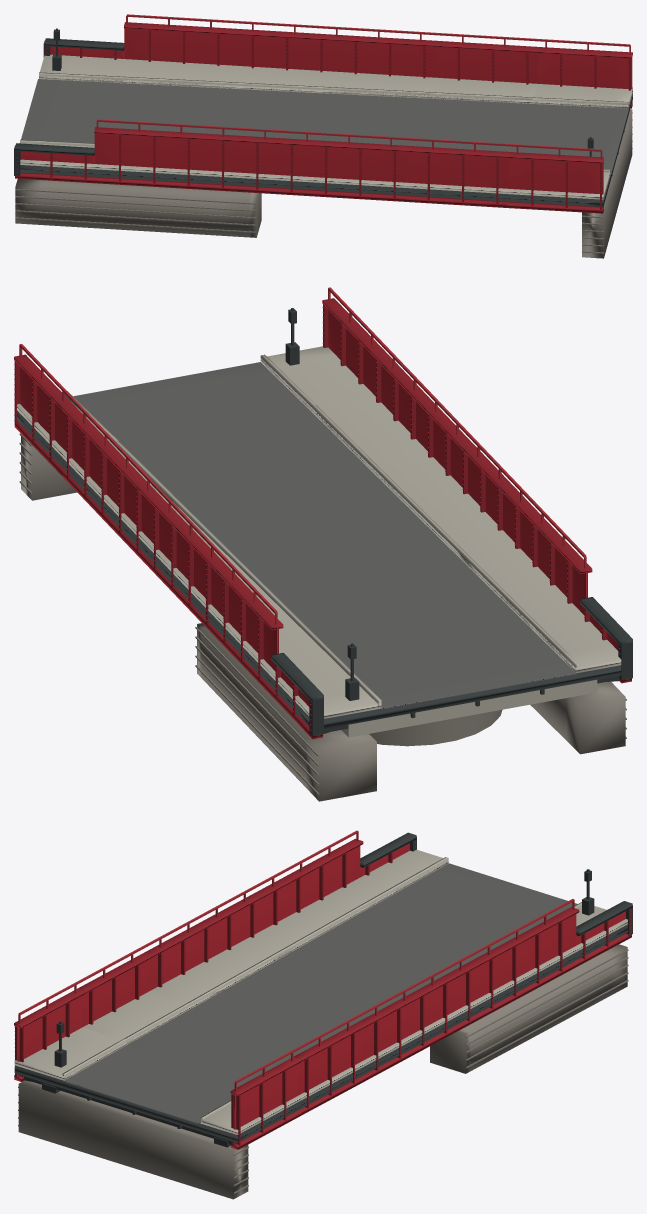
Rendered from pont-de-la-fonderie-near.glb.
3 renders of one model, top to bottom at view 1: azimuth 30°, elevation 25°; view 2: azimuth 150°, elevation 25°; view 3: azimuth 270°, elevation 25°, orthographic. The views are drawn at different scales.
Visible parts, largest first — view 1: pont-de-la-fonderie-0-steel, pont-de-la-fonderie-0-asphalt, pont-de-la-fonderie-0-concrete, pont-de-la-fonderie-0-edge, pont-de-la-fonderie-0-stone, pont-de-la-fonderie-0-iron, pont-de-la-fonderie-0-rail; view 2: pont-de-la-fonderie-0-asphalt, pont-de-la-fonderie-0-concrete, pont-de-la-fonderie-0-edge, pont-de-la-fonderie-0-stone, pont-de-la-fonderie-0-steel, pont-de-la-fonderie-0-iron, pont-de-la-fonderie-0-rail; view 3: pont-de-la-fonderie-0-asphalt, pont-de-la-fonderie-0-stone, pont-de-la-fonderie-0-steel, pont-de-la-fonderie-0-concrete, pont-de-la-fonderie-0-edge, pont-de-la-fonderie-0-iron, pont-de-la-fonderie-0-rail.
Part boxes in pixels (x1=…): pont-de-la-fonderie-0-steel: x1=16, y1=28, x2=632, y2=208; pont-de-la-fonderie-0-asphalt: x1=21, y1=79, x2=628, y2=175; pont-de-la-fonderie-0-concrete: x1=20, y1=54, x2=632, y2=199; pont-de-la-fonderie-0-edge: x1=15, y1=22, x2=632, y2=213; pont-de-la-fonderie-0-stone: x1=15, y1=109, x2=632, y2=258; pont-de-la-fonderie-0-iron: x1=14, y1=28, x2=632, y2=207; pont-de-la-fonderie-0-rail: x1=96, y1=14, x2=630, y2=159; pont-de-la-fonderie-0-asphalt: x1=73, y1=362, x2=575, y2=709; pont-de-la-fonderie-0-concrete: x1=17, y1=346, x2=621, y2=737; pont-de-la-fonderie-0-edge: x1=14, y1=298, x2=631, y2=739; pont-de-la-fonderie-0-stone: x1=19, y1=433, x2=626, y2=801; pont-de-la-fonderie-0-steel: x1=14, y1=307, x2=620, y2=730; pont-de-la-fonderie-0-iron: x1=17, y1=308, x2=632, y2=735; pont-de-la-fonderie-0-rail: x1=19, y1=287, x2=586, y2=624; pont-de-la-fonderie-0-asphalt: x1=64, y1=863, x2=577, y2=1124; pont-de-la-fonderie-0-stone: x1=18, y1=944, x2=628, y2=1199; pont-de-la-fonderie-0-steel: x1=14, y1=842, x2=631, y2=1145; pont-de-la-fonderie-0-concrete: x1=14, y1=849, x2=627, y2=1134; pont-de-la-fonderie-0-edge: x1=14, y1=838, x2=631, y2=1149; pont-de-la-fonderie-0-iron: x1=14, y1=832, x2=632, y2=1147; pont-de-la-fonderie-0-rail: x1=18, y1=830, x2=574, y2=1091.
Size of the model in its own units: 23.84 by 4.61 by 21.97.
